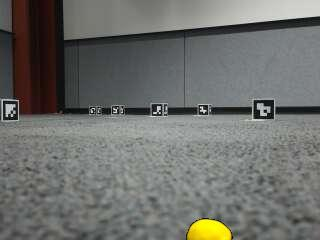lemon: (189, 219, 232, 240)
